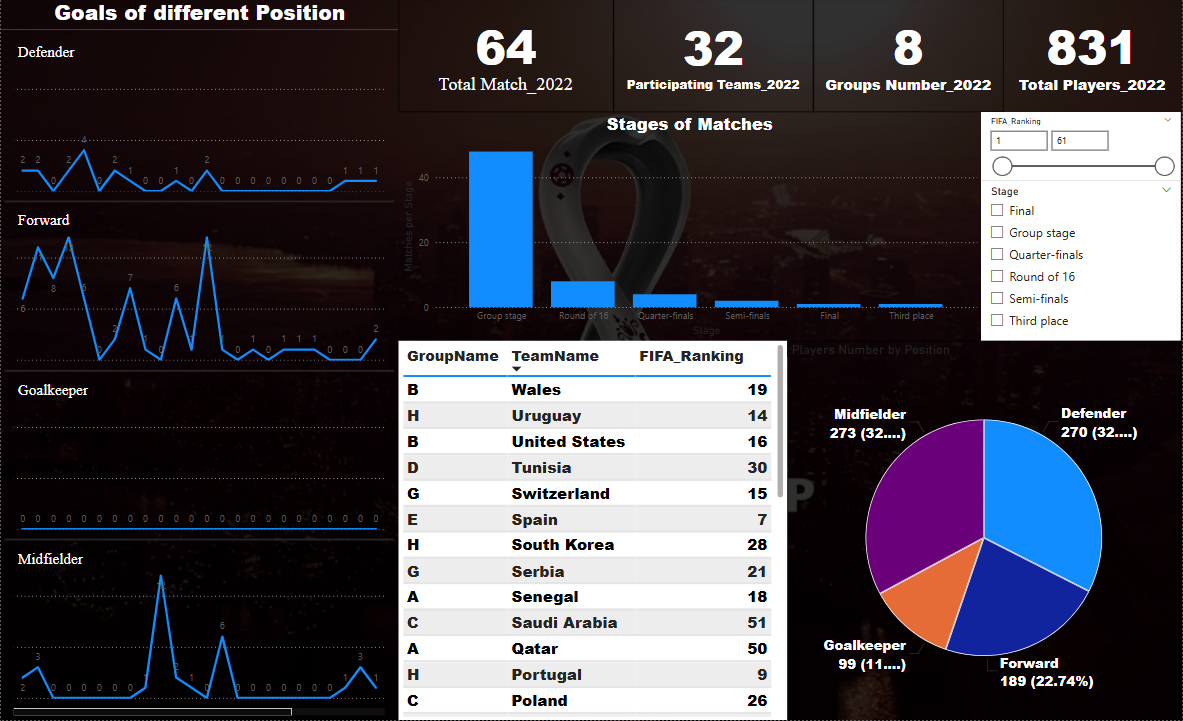

Layout of this report page (visuals, bound fields, positions):
{"tool":"powerbi","page":{"name":"2022 World Cup ","canvas":[1550,950],"ordinal":2},"visuals":[{"type":"card","fields":{"Values":["worldcup_2022 2022_matches_db.Total Match_2022"]},"box":[521.9,0,282.3,151],"z":0},{"type":"card","fields":{"Values":["worldcup_2022 squads_db.Participating Teams_2022"]},"box":[804.3,0,262.6,151],"z":1000},{"type":"card","fields":{"Values":["worldcup_2022 groups_db.Groups Number_2022"]},"box":[1066.9,0,249.5,151],"z":2000},{"type":"card","fields":{"Values":["worldcup_2022 squads_db.Total Players_2022"]},"box":[1316.4,0,233.1,151],"z":3000},{"type":"slicer","fields":{"Values":["worldcup_2022 2022_matches_db.Stage"]},"box":[1286.8,241.3,262.6,210.1],"z":4000},{"type":"clusteredColumnChart","title":"Stages of Matches ","fields":{"Y":["worldcup_2022 2022_matches_db.Matches per Stage"],"Category":["worldcup_2022 2022_matches_db.Stage"]},"box":[521.9,151,764.9,300.4],"z":5000},{"type":"pieChart","fields":{"Y":["worldcup_2022 squads_db.Players Number"],"Series":["worldcup_2022 squads_db.Position"]},"box":[1032.4,451.4,517,499],"z":6000},{"type":"lineChart","title":"Goals  of different Position","fields":{"Category":["worldcup_2022 groups_db.FIFA_Ranking"],"Y":["Sum(worldcup_2022 squads_db.WC_Goals)"],"Rows":["worldcup_2022 squads_db.Position"]},"box":[0,0,521.9,950.3],"z":7000},{"type":"tableEx","fields":{"Values":["worldcup_2022 groups_db.GroupName","worldcup_2022 groups_db.TeamName","worldcup_2022 groups_db.FIFA_Ranking"]},"box":[521.9,451.4,510.5,499],"z":7001},{"type":"slicer","fields":{"Values":["worldcup_2022 groups_db.FIFA_Ranking"]},"box":[1286.8,151,262.6,90.3],"z":7002}]}

Visuals, with their boxes in screenshot pixels (x1, y1, x2, y2), scaled from the page's 1550x950 canvas onto the 1183x721 screenshot:
card - worldcup_2022 2022_matches_db.Total Match_2022: (398,0,614,115)
card - worldcup_2022 squads_db.Participating Teams_2022: (614,0,814,115)
card - worldcup_2022 groups_db.Groups Number_2022: (814,0,1005,115)
card - worldcup_2022 squads_db.Total Players_2022: (1005,0,1182,115)
slicer - worldcup_2022 2022_matches_db.Stage: (982,183,1182,343)
"Stages of Matches " clusteredColumnChart: (398,115,982,343)
pieChart - worldcup_2022 squads_db.Players Number x worldcup_2022 squads_db.Position: (788,343,1182,720)
"Goals  of different Position" lineChart: (0,0,398,720)
tableEx - worldcup_2022 groups_db.GroupName x worldcup_2022 groups_db.TeamName: (398,343,788,720)
slicer - worldcup_2022 groups_db.FIFA_Ranking: (982,115,1182,183)
